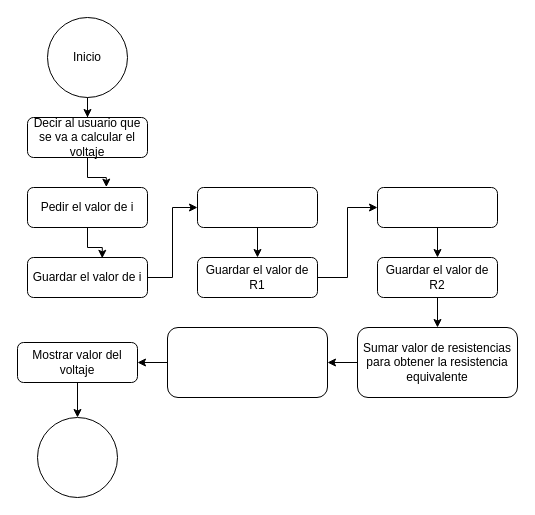
Image size: 535x515. Some labels were removed from this diagram. The shapes that lost their labels are listed below. From the top down, each one's centre as x and y in pixels, then its label:
At pixel 257 207: "Pedir el valor de R1".
At pixel 437 207: "Pedir el valor de R2".
At pixel 247 362: "Calcular el voltaje, con v=i*Req".
At pixel 77 457: "Fin".
